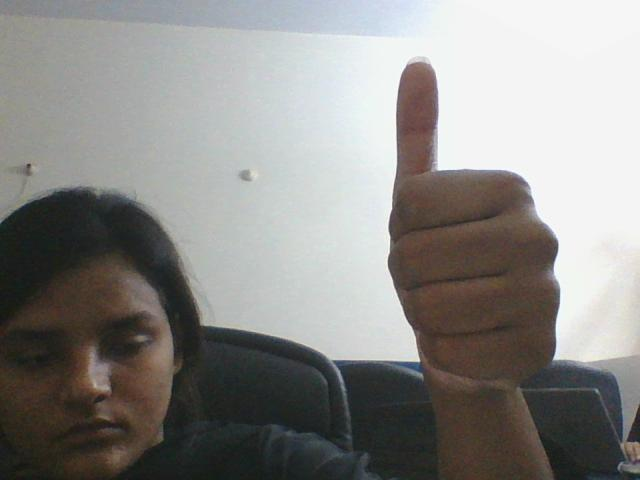thumbs-up: (381, 56, 570, 391)
